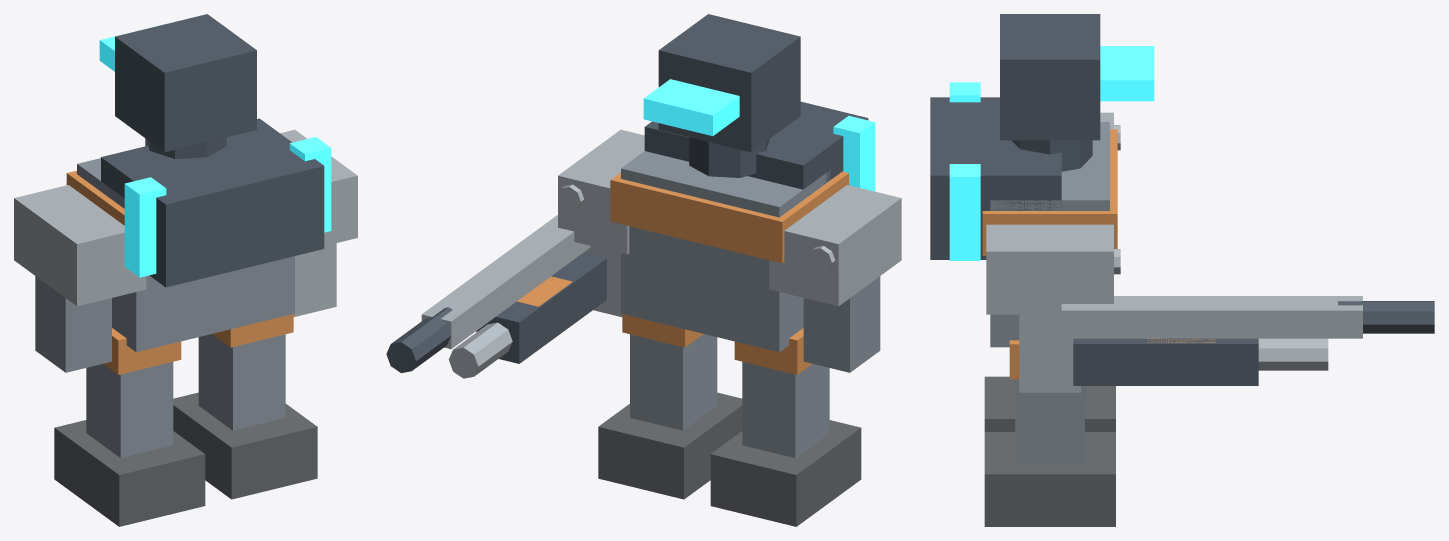
File: ghost.glb
3 renders of one model, left to right at view 1: azimuth 30°, elevation 25°; view 2: azimuth 150°, elevation 25°; view 3: azimuth 270°, elevation 25°, orthographic.
Parts seen in each view (by area): view 1: detail_018, detail_011, detail_006, detail_008, detail_000, detail_001, detail_003, detail_002, detail_013, detail_020, detail_014, detail_009 (+6 smaller); view 2: detail_006, detail_011, detail_008, detail_000, detail_001, detail_007, detail_021, detail_003, detail_002, detail_018, detail_009, detail_015 (+10 smaller); view 3: detail_011, detail_021, detail_009, detail_018, detail_001, detail_015, detail_003, detail_006, detail_014, detail_000, detail_019, detail_012 (+5 smaller).
Boxes of the visible parts, <box> form: detail_018: <box>101,118,324,287</box>; detail_011: <box>115,14,256,152</box>; detail_006: <box>77,158,294,352</box>; detail_008: <box>14,185,146,306</box>; detail_000: <box>54,420,205,526</box>; detail_001: <box>173,392,317,499</box>; detail_003: <box>198,334,285,430</box>; detail_002: <box>86,362,173,457</box>; detail_013: <box>35,276,111,372</box>; detail_020: <box>124,177,166,277</box>; detail_014: <box>293,243,336,316</box>; detail_009: <box>280,129,357,245</box>; detail_006: <box>621,151,829,352</box>; detail_011: <box>658,14,800,152</box>; detail_008: <box>769,185,901,306</box>; detail_000: <box>710,420,861,526</box>; detail_001: <box>598,392,742,499</box>; detail_007: <box>610,171,848,263</box>; detail_021: <box>421,215,590,349</box>; detail_003: <box>630,334,717,430</box>; detail_002: <box>742,361,829,457</box>; detail_018: <box>644,101,868,189</box>; detail_009: <box>558,129,644,254</box>; detail_015: <box>476,252,606,363</box>; detail_011: <box>1000,14,1100,140</box>; detail_021: <box>1061,296,1362,338</box>; detail_009: <box>986,224,1113,314</box>; detail_018: <box>930,97,1061,259</box>; detail_001: <box>984,432,1115,526</box>; detail_015: <box>1073,338,1258,385</box>; detail_003: <box>1015,379,1084,464</box>; detail_006: <box>990,122,1109,347</box>; detail_014: <box>1019,314,1080,392</box>; detail_000: <box>984,376,1115,431</box>; detail_019: <box>949,164,980,260</box>; detail_012: <box>1100,46,1154,101</box>.
Bounding box in the file's own units: 0.89 × 1.26 × 1.31.
